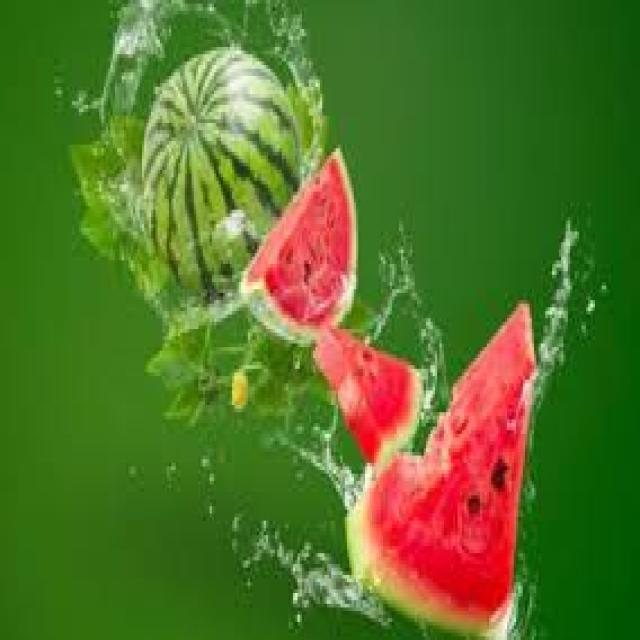watermelon: (342, 296, 536, 636), (140, 40, 302, 304), (239, 144, 358, 343)
